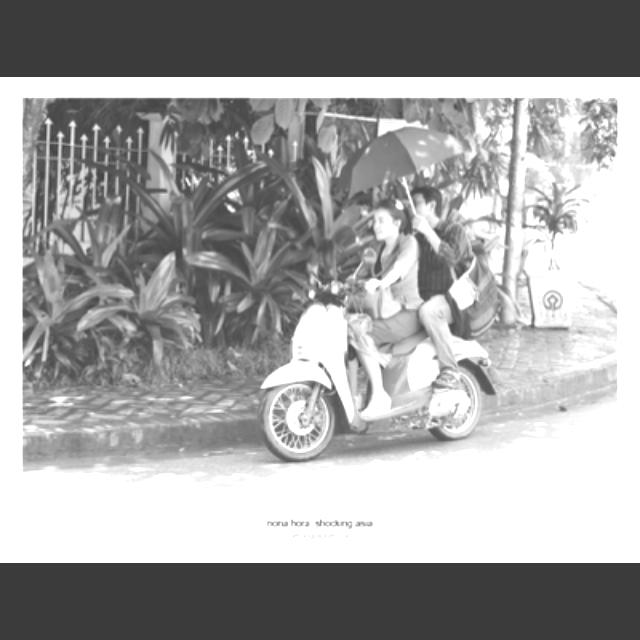Without Helmet: (368, 194, 414, 252)
